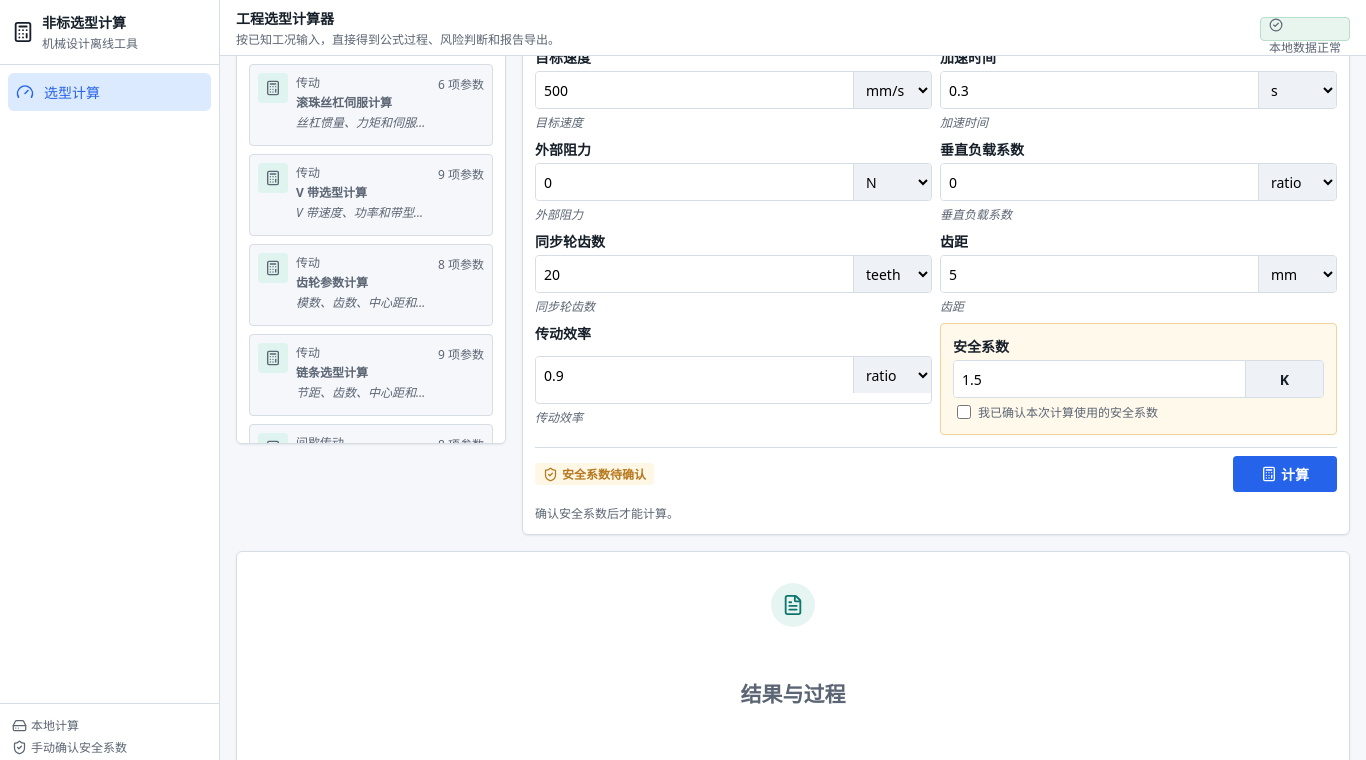
it: 报告导出和 QA 可见边界 › 报告导出只在当前计算结果页出现
(page scrolled)
Expected: the text "本地数据正常" is shown, [1269, 38, 1341, 56]
Click the checkbox labelled "我已确认本次计算使用的安全系数".
click(964, 412)  # box [957, 405, 971, 419]
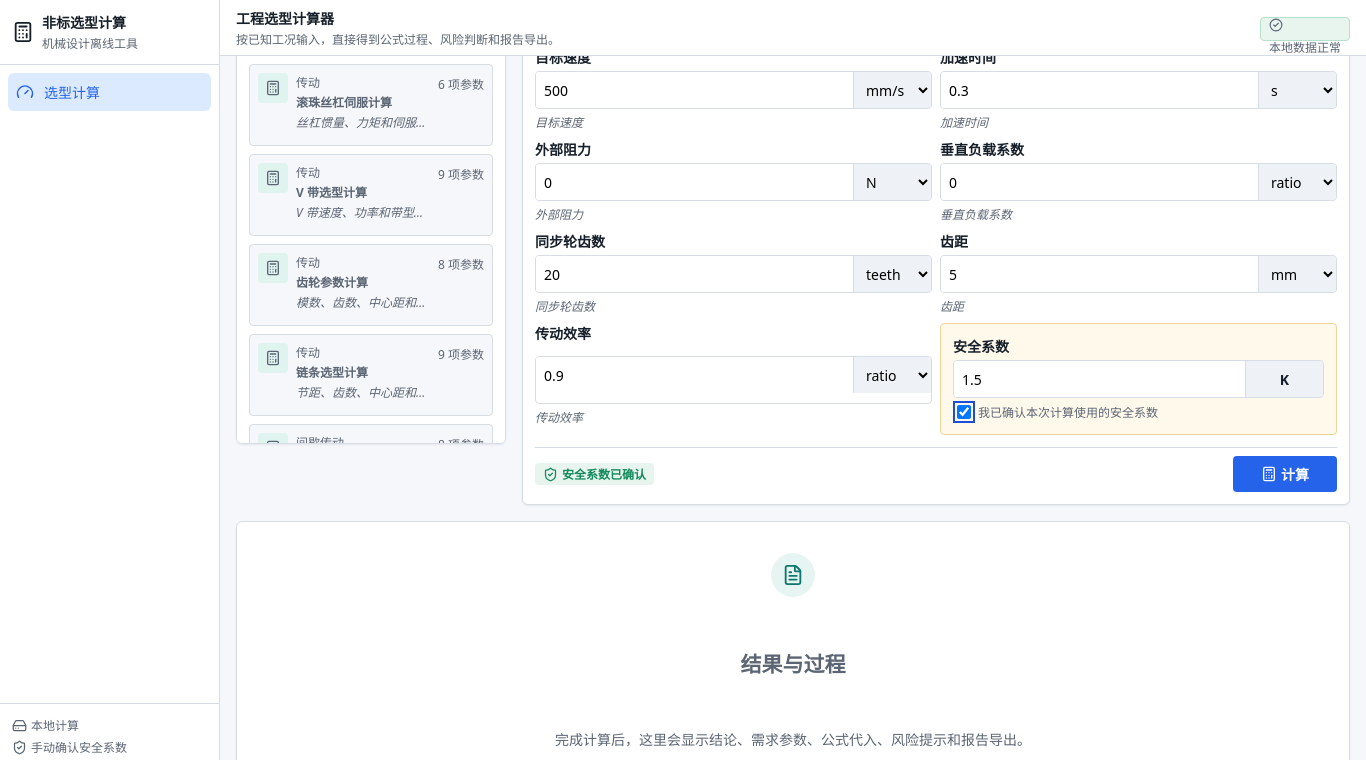
Click the button "计算".
click(1285, 474)  # box [1233, 456, 1337, 492]
(page scrolled)
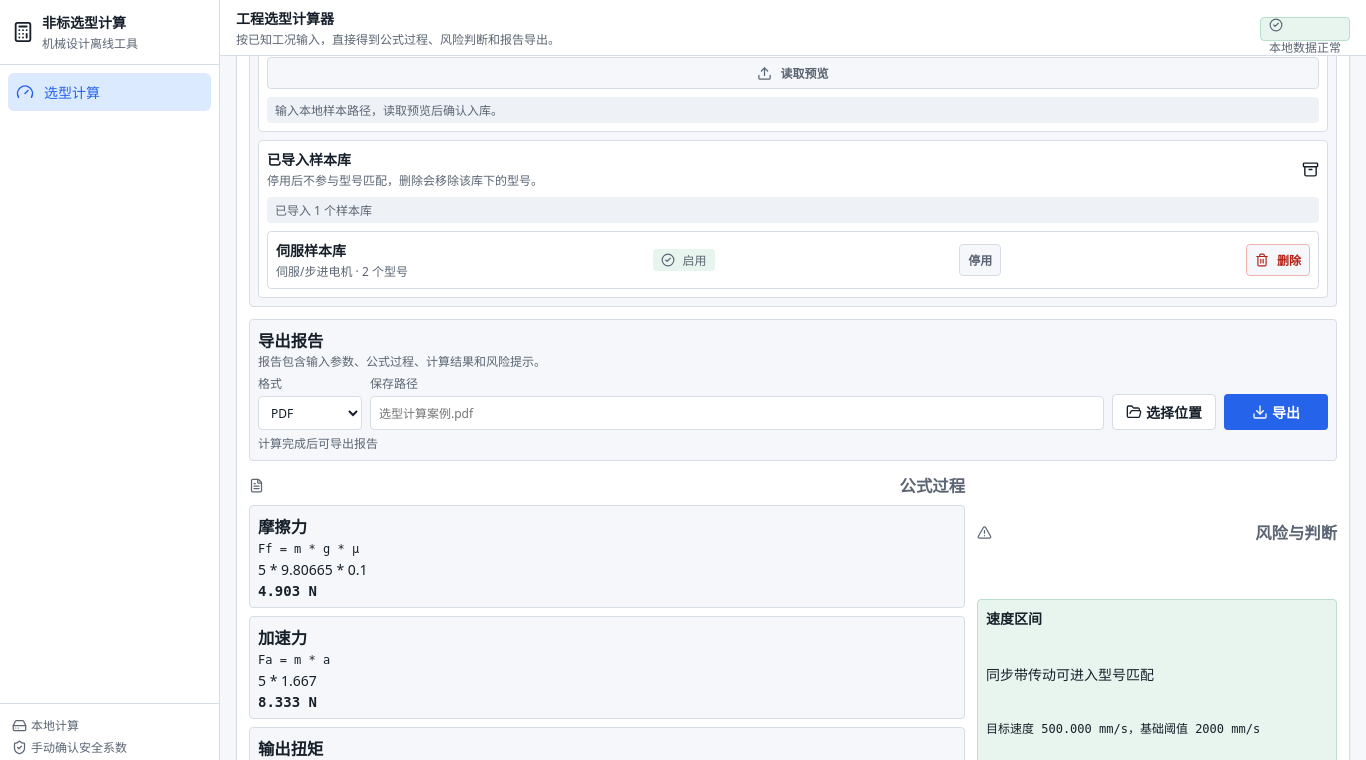
Expected: the heading "导出报告" is shown, [258, 330, 323, 352]
Click the button "选择位置".
click(1164, 412)  # box [1112, 394, 1216, 430]
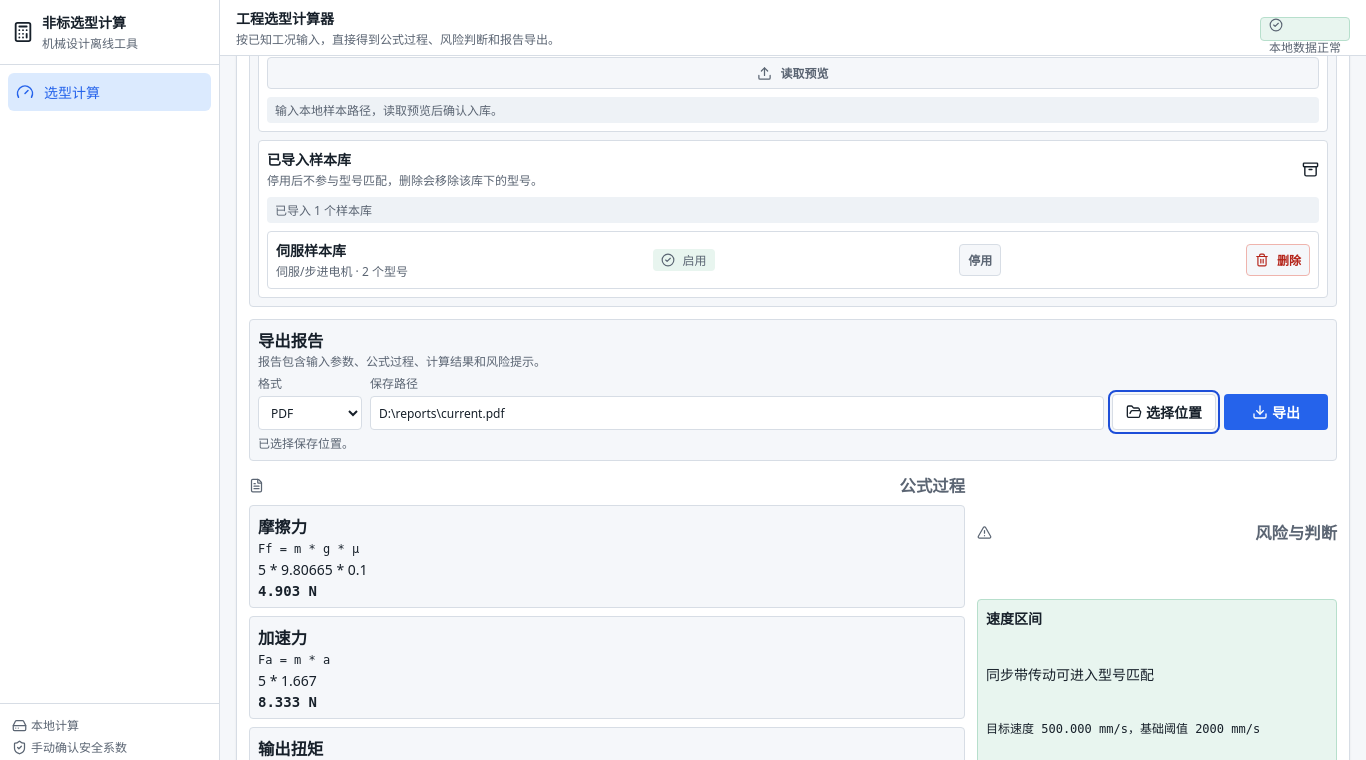
Expected: the field named "当前报告输出路径" holds "D:\\reports\\current.pdf", [370, 396, 1104, 430]
Click the button "导出".
click(1276, 412)  # box [1224, 394, 1328, 430]
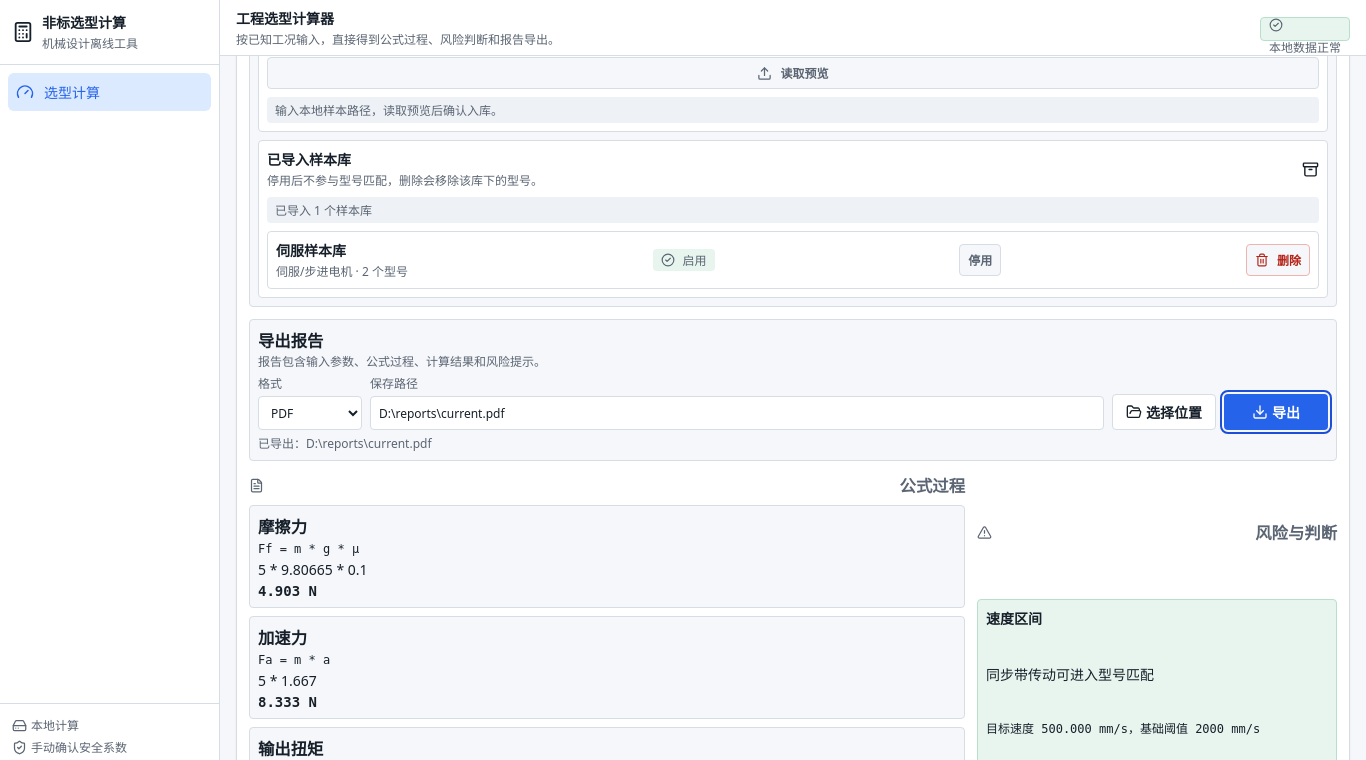
Expected: the text "已导出：D:\\reports\\current.pdf" is shown, [258, 435, 432, 452]
